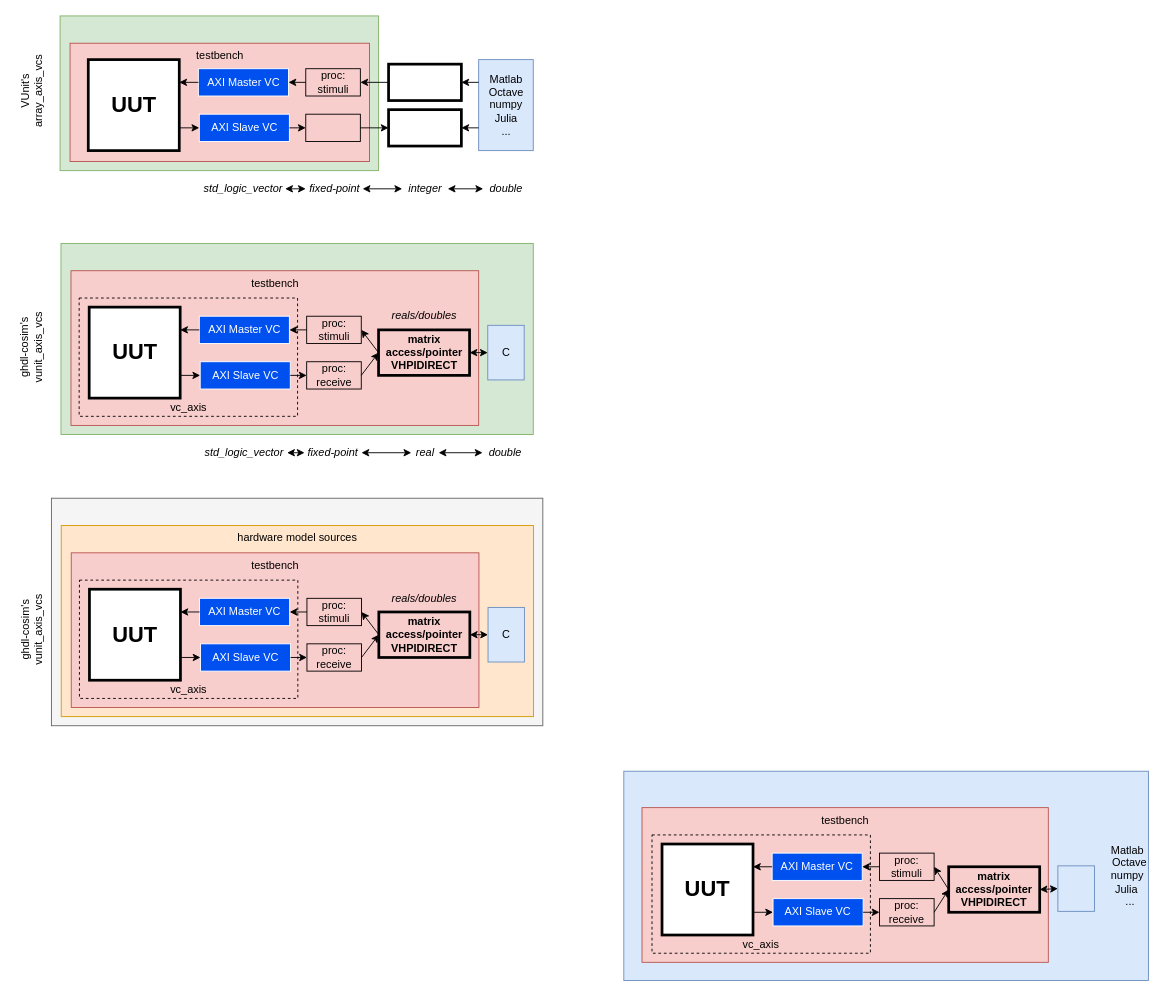
Some shapes in this 1165 by 996 pixel diagram are drawn without their labels. The shapes that lost their labels are listed below. From the top down, each one's box as (x1, y1, x2, y2) in pixels, then its label:
(59, 15, 379, 171): Python runner
(387, 62, 462, 101): input.csv
(305, 113, 360, 142): proc: save
(387, 108, 462, 147): output.csv
(60, 243, 533, 435): Python builder/runner
(51, 497, 543, 726): plugin builder/runner
(1057, 865, 1094, 911): C/C++
